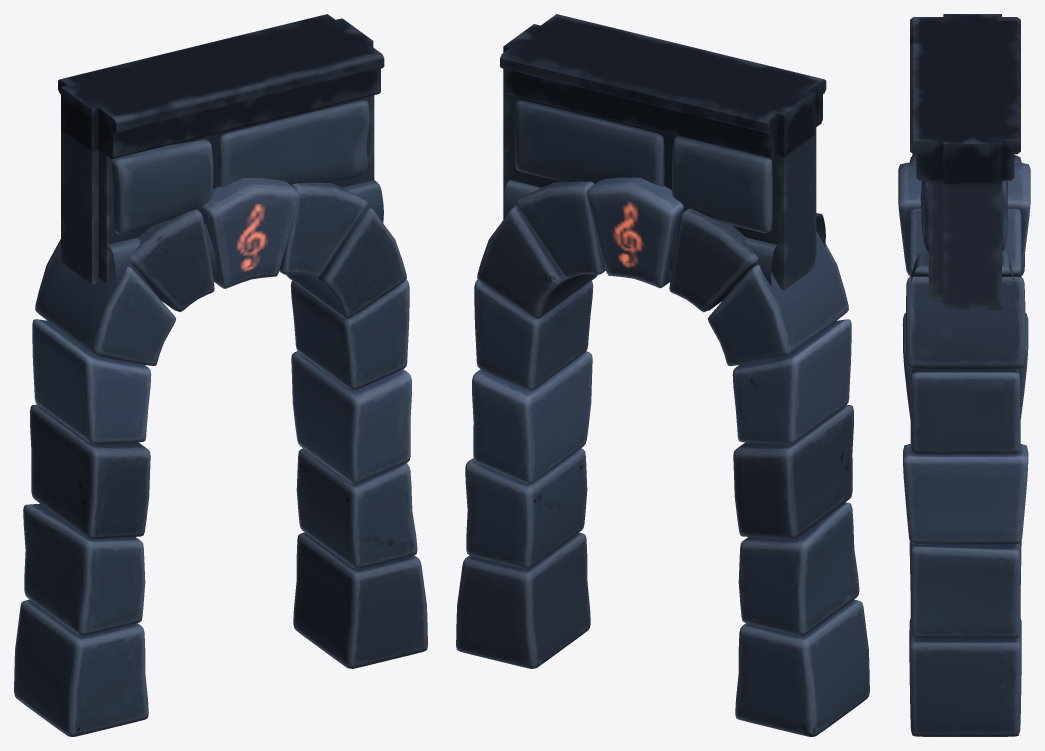
File: Door1.fbx
The picture shows the model from 3 angles, left to right: view 1: azimuth 30°, elevation 25°; view 2: azimuth 150°, elevation 25°; view 3: azimuth 270°, elevation 25°; orthographic projection. The views are drawn at different scales.
Parts seen in each view (by area): view 1: DoorFrameB; view 2: DoorFrameB; view 3: DoorFrameB.
Boxes of the visible parts, left/top/right/bottom form: DoorFrameB: left=14, top=14, right=427, bottom=736; DoorFrameB: left=456, top=14, right=869, bottom=736; DoorFrameB: left=898, top=14, right=1030, bottom=736.
Bounding box in the file's own units: 2.69 × 4.34 × 0.9035.
